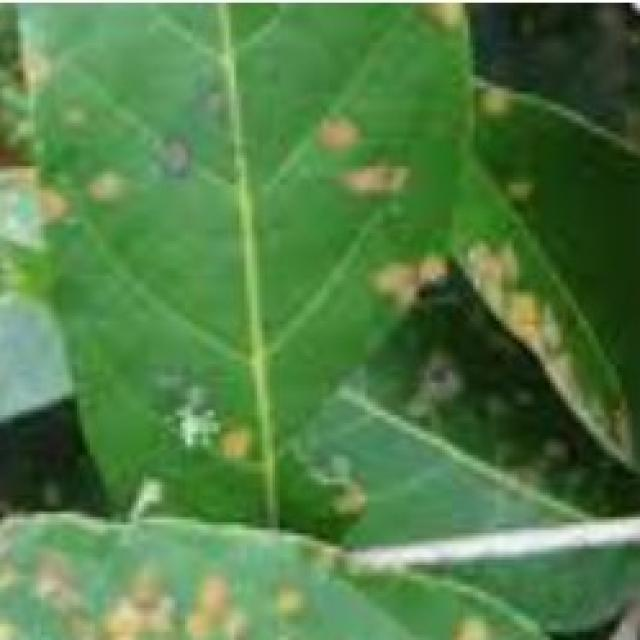Algal Leaf Spot: (316, 103, 435, 203), (102, 567, 245, 635), (488, 236, 559, 362), (365, 251, 449, 325), (196, 394, 244, 465), (79, 147, 132, 210)
